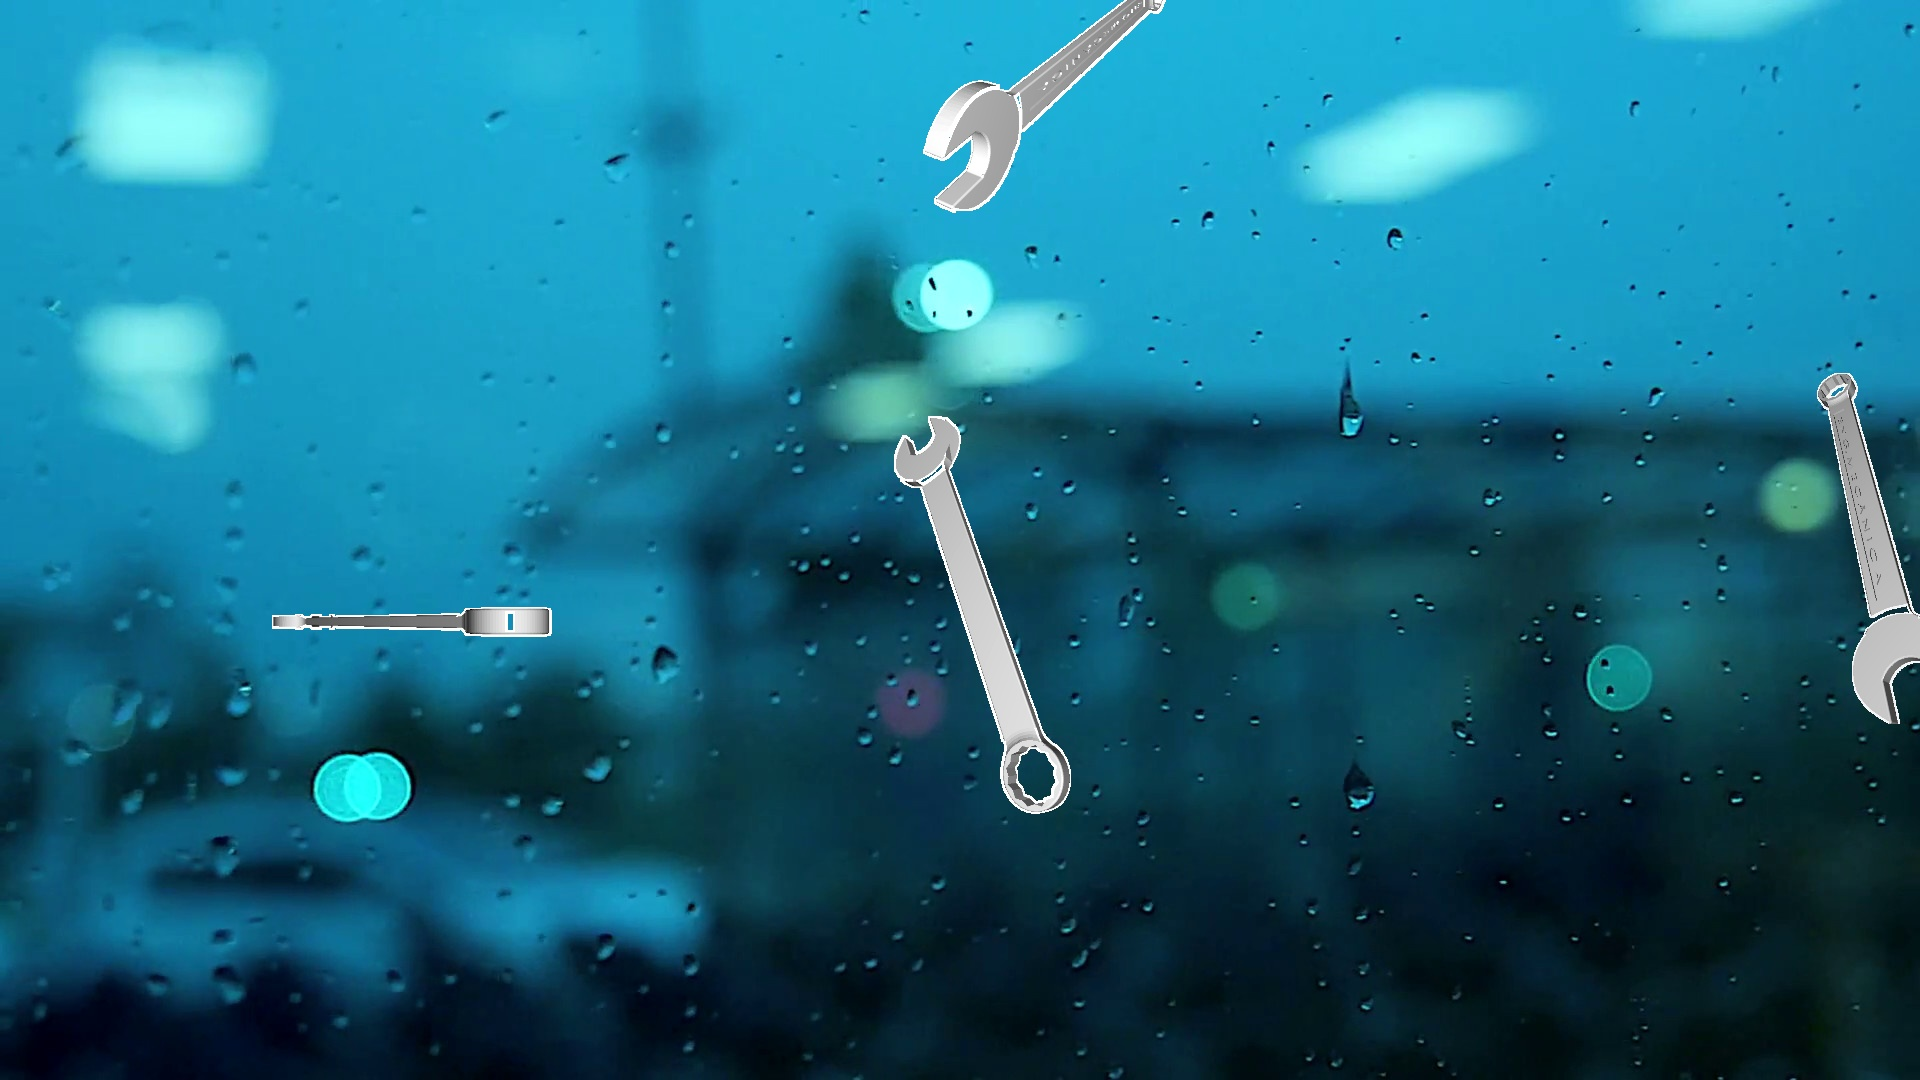Mixed Key: (894, 415, 1069, 814), (923, 0, 1164, 212), (1817, 373, 1919, 723), (272, 607, 551, 636)
